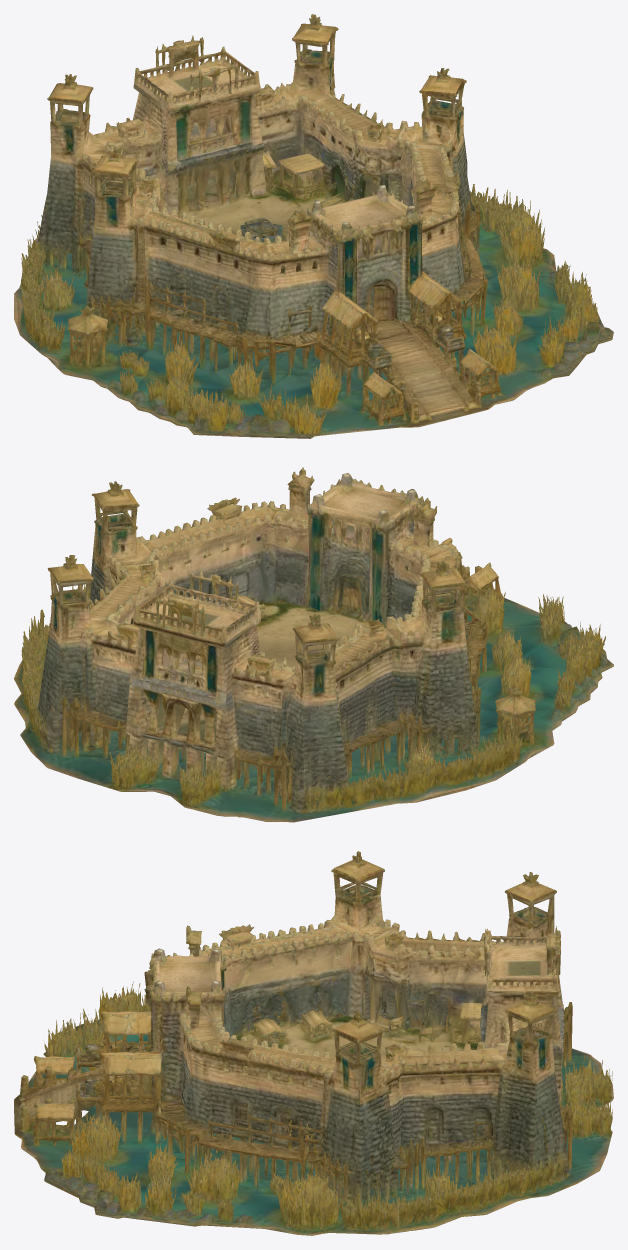
Rendered from SistanReedland.glb.
3 views of the same model, one above another, from view 1: azimuth 30°, elevation 25°; view 2: azimuth 150°, elevation 25°; view 3: azimuth 270°, elevation 25° (orthographic).
Size of the model in its own units: 1.78 by 0.646 by 1.9.
1 material, 1 textured.
